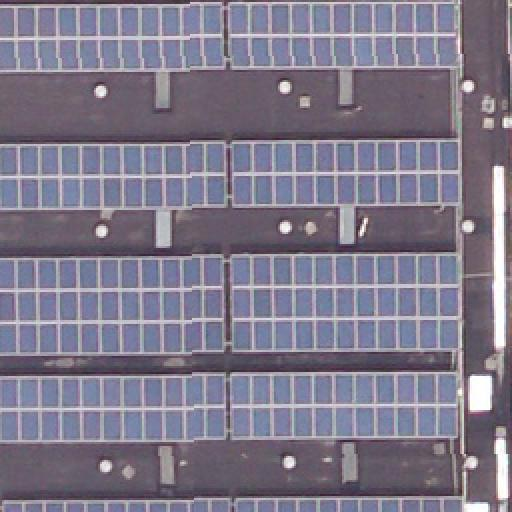solar-panel: (230, 255, 462, 353), (0, 255, 224, 353), (230, 369, 462, 439), (229, 141, 459, 211), (0, 141, 224, 211), (229, 2, 459, 70), (0, 4, 224, 72), (0, 375, 224, 441), (1, 497, 231, 511), (235, 497, 461, 511)
